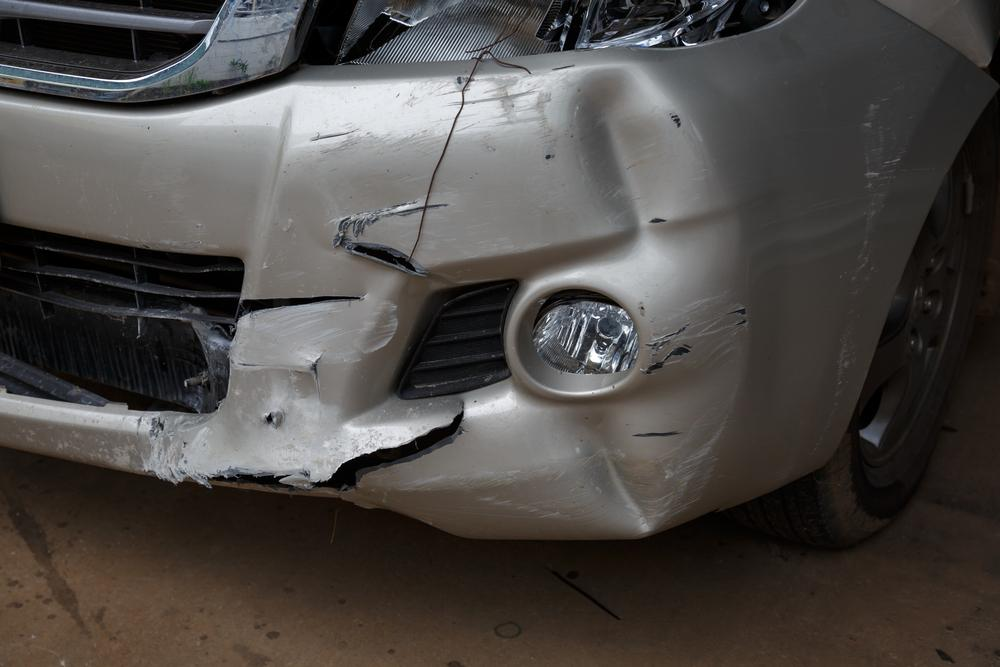crack: (191, 399, 471, 495), (347, 240, 420, 273)
dent: (531, 329, 743, 528), (568, 62, 739, 265)
scratch: (141, 296, 396, 473), (311, 73, 562, 209), (830, 80, 913, 423), (394, 456, 611, 525), (641, 298, 752, 380)
